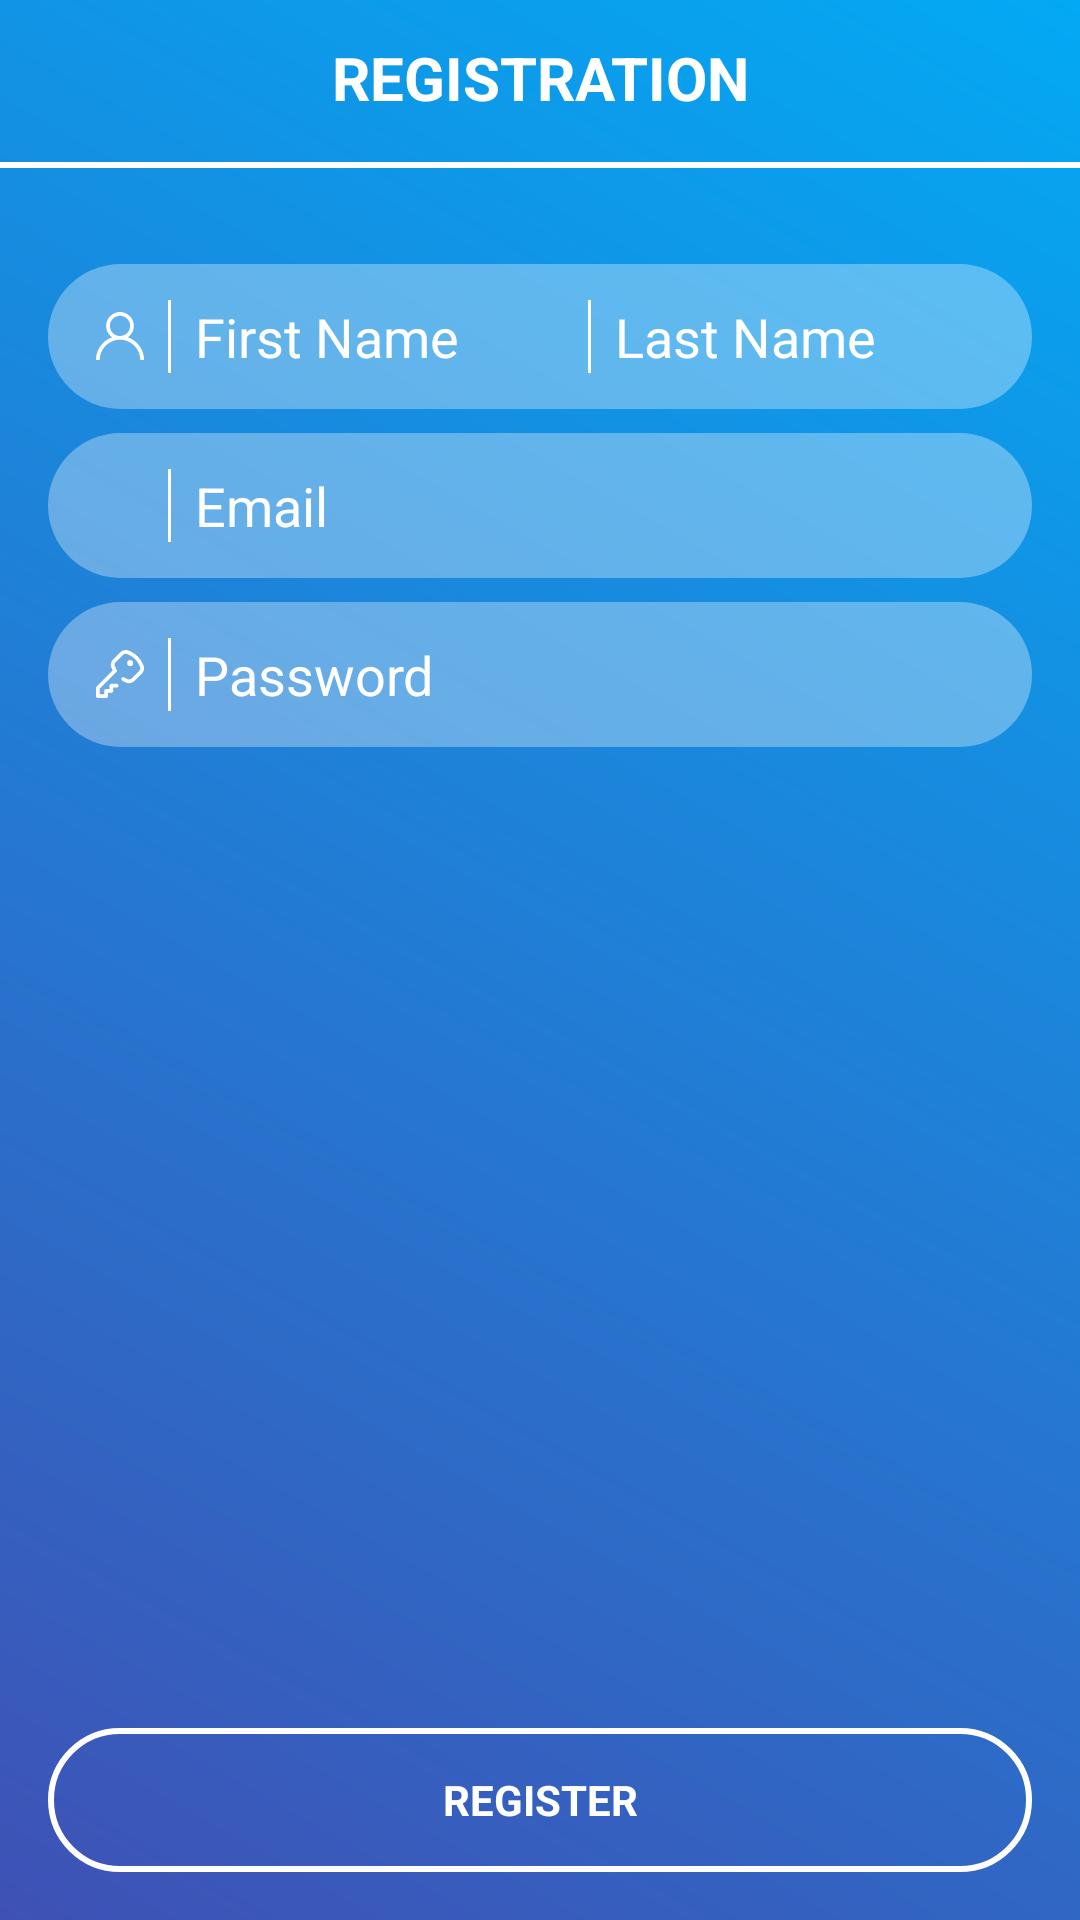

Icon click points for this 1080*1920 phone screenshot, format (x=x, y=y):
key: (x=120, y=674)
user: (x=120, y=336)
